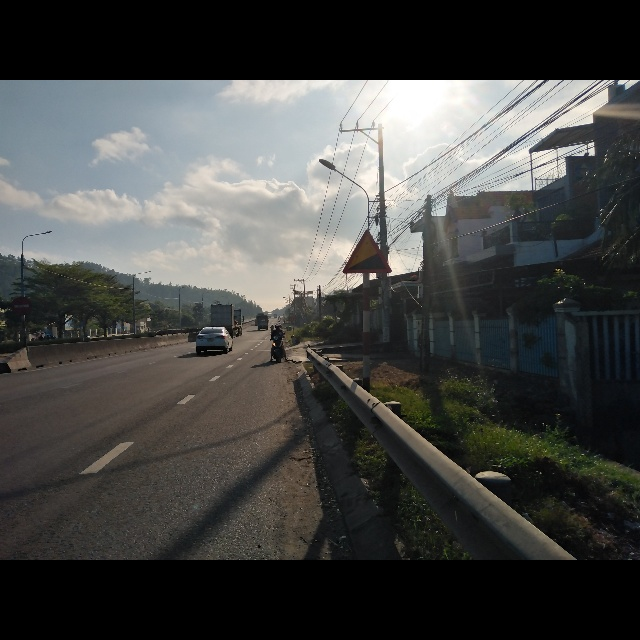Dốc lên nguy hiểm: (339, 228, 393, 275)
